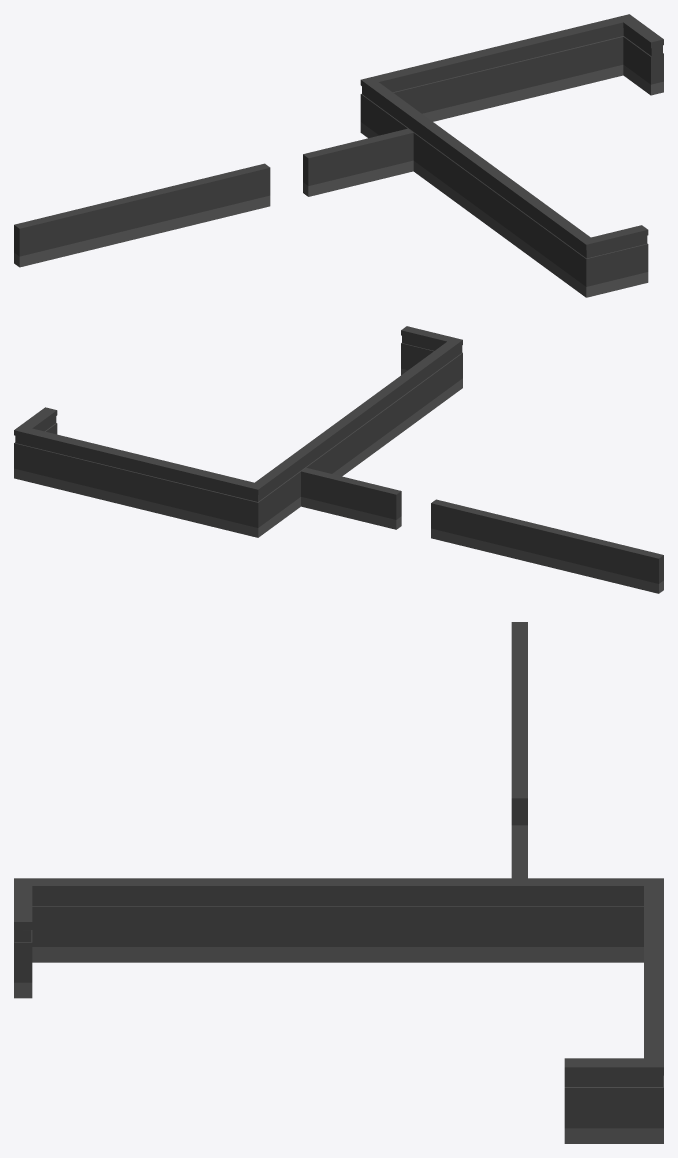
File: MarketWall.fbx
3 renders of one model, top to bottom at view 1: azimuth 30°, elevation 25°; view 2: azimuth 150°, elevation 25°; view 3: azimuth 270°, elevation 25°, orthographic. The views are drawn at different scales.
Visible parts, largest first — view 1: MarketWall_LOD0; view 2: MarketWall_LOD0; view 3: MarketWall_LOD0.
Boxes of the visible parts, <box> form: MarketWall_LOD0: <box>14,14,663,297</box>; MarketWall_LOD0: <box>14,326,663,593</box>; MarketWall_LOD0: <box>14,622,663,1143</box>.
Size of what is drawn, in the model's own units: 9329 by 714 by 5499.
Materials: 1 (1 with a texture image).
